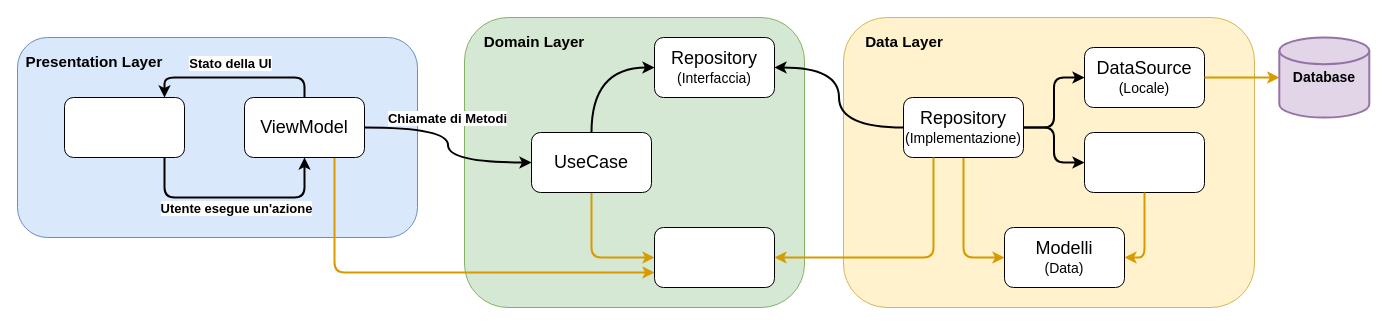
This 1388x325 diagram has some shape labels left out. The shapes that lost their labels are listed below. From the top down, each one's centre as x and y in pixels, then its label:
[124,127]: UI
[1144,162]: DataSource (Remoto)
[714,257]: Entità (Dominio)
